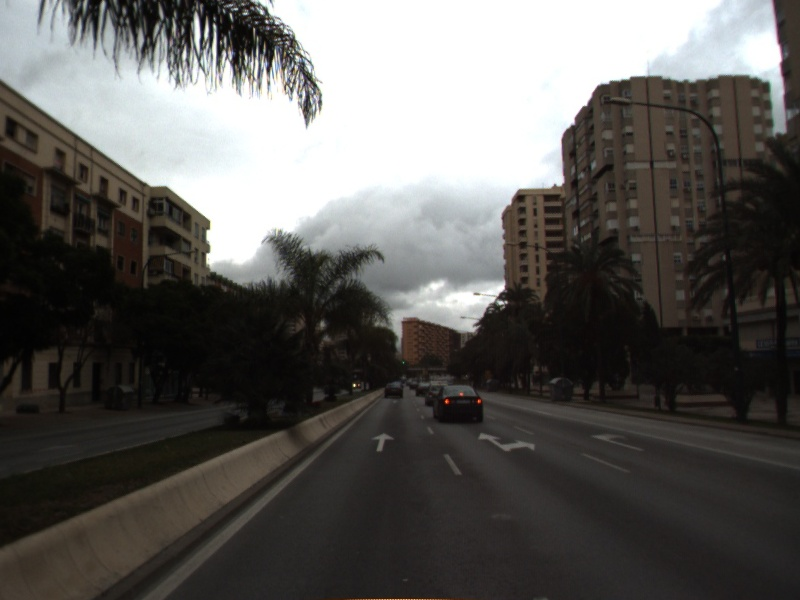RIGHT: (589, 431, 647, 453)
STRAIGHT: (369, 431, 397, 454)
STRAIGHT_RIGHT: (476, 430, 536, 453)
